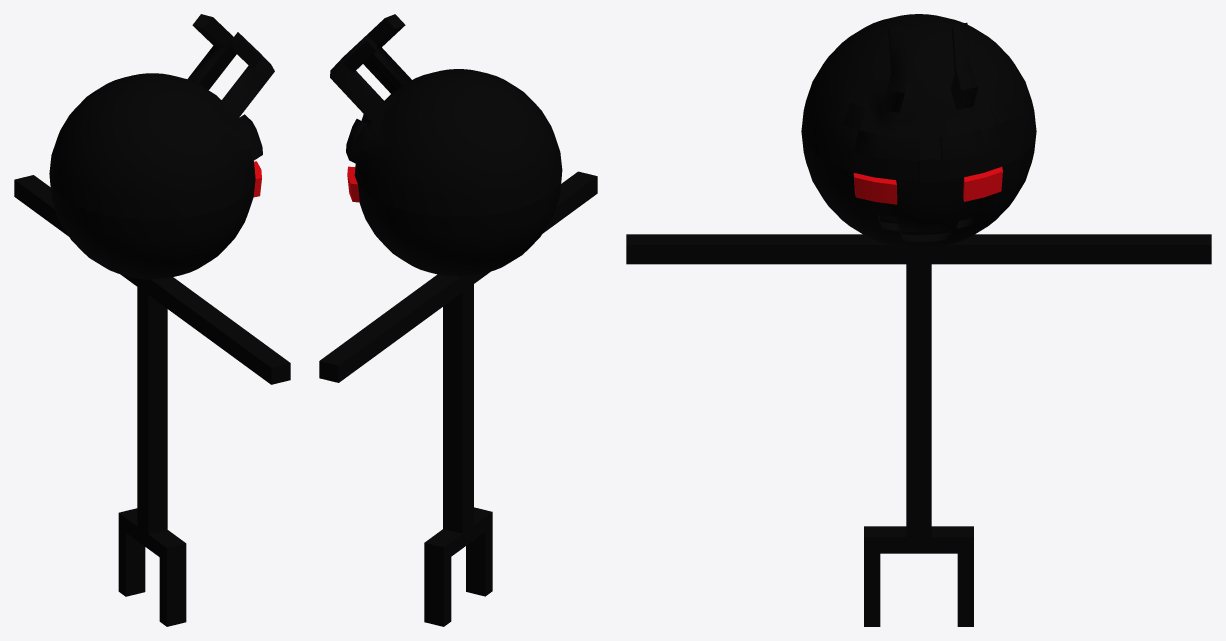
Rendered from EvilStickman.glb.
The picture shows the model from 3 angles, left to right: view 1: azimuth 30°, elevation 25°; view 2: azimuth 150°, elevation 25°; view 3: azimuth 270°, elevation 25°; orthographic projection. The views are drawn at different scales.
Visible parts, largest first — view 1: Cube; view 2: Cube; view 3: Cube.
Boxes of the visible parts, bbox=[...] form: Cube: bbox=[14, 14, 290, 626]; Cube: bbox=[319, 14, 597, 626]; Cube: bbox=[626, 14, 1211, 626].
Bounding box in the file's own units: 9.8 × 25.97 × 21.59.
